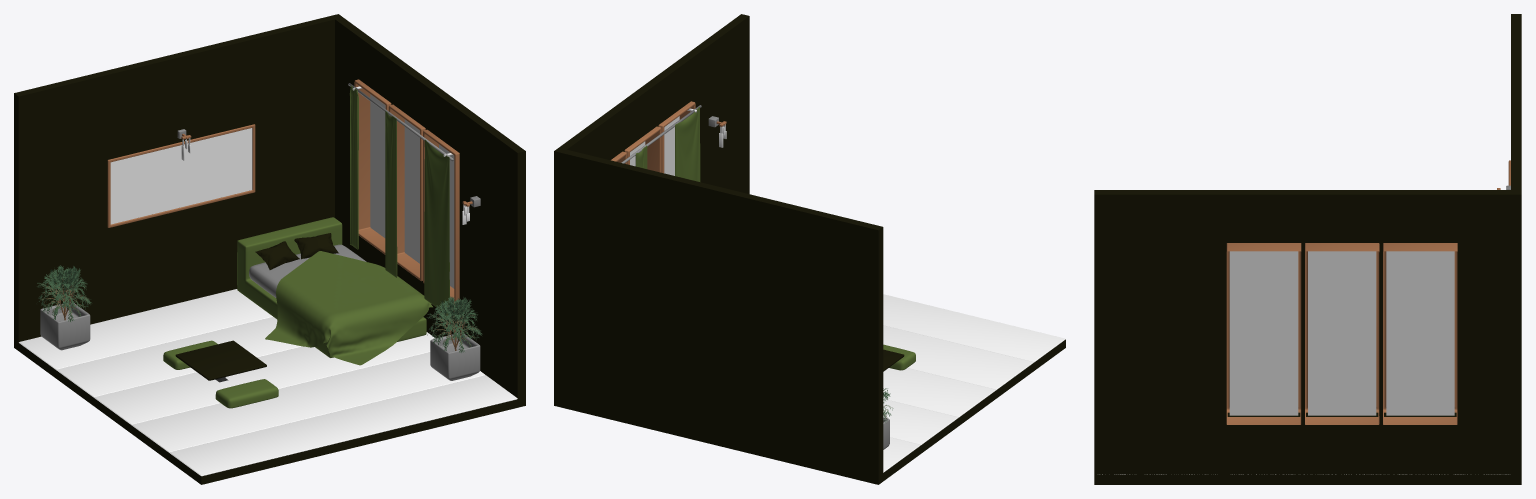
Rendered from room.glb.
3 views of the same model, side by side, from view 1: azimuth 30°, elevation 25°; view 2: azimuth 150°, elevation 25°; view 3: azimuth 270°, elevation 25° (orthographic). The views are drawn at different scales.
Visible parts, largest first — view 1: Plane.001, Plane.013, Plane.009, Plane.010, Plane.005, Plane.008, Plane.006, Plane.007, Plane.017, Cube, Cube.010, Cube.011 (+17 smaller); view 2: Plane.001, Plane.010, Plane.009, Plane.008, Plane.007, Plane.017, Cube.011, Plane.006, Cube.018; view 3: Plane.001, Cube.018, Cube.019, Cube.020, Cube.012, Cube.010, Cube.011.
Boxes of the visible parts, box(x1,y1,x2,y2) form: Plane.001: box(14, 14, 525, 484); Plane.013: box(265, 251, 432, 365); Plane.009: box(132, 352, 485, 452); Plane.010: box(169, 375, 517, 476); Plane.005: box(110, 128, 252, 224); Plane.008: box(94, 332, 435, 424); Plane.006: box(19, 289, 272, 369); Plane.007: box(57, 317, 301, 397); Plane.017: box(424, 139, 449, 315); Cube: box(237, 217, 426, 357); Cube.010: box(354, 79, 391, 254); Cube.011: box(388, 104, 425, 281); Plane.001: box(554, 14, 1065, 484); Plane.010: box(883, 294, 1065, 362); Plane.009: box(883, 325, 1033, 389); Plane.008: box(883, 368, 995, 417); Plane.007: box(883, 399, 957, 444); Plane.017: box(675, 107, 700, 181); Cube.011: box(624, 126, 661, 172); Plane.006: box(883, 437, 920, 472); Cube.018: box(664, 116, 679, 175); Plane.001: box(1094, 14, 1521, 484); Cube.018: box(1229, 251, 1298, 415); Cube.019: box(1386, 251, 1454, 415); Cube.020: box(1308, 251, 1376, 415); Cube.012: box(1226, 243, 1301, 424); Cube.010: box(1383, 243, 1457, 424); Cube.011: box(1305, 243, 1379, 424).
Bounding box in the file's own units: 2.09 × 1.5 × 2.
